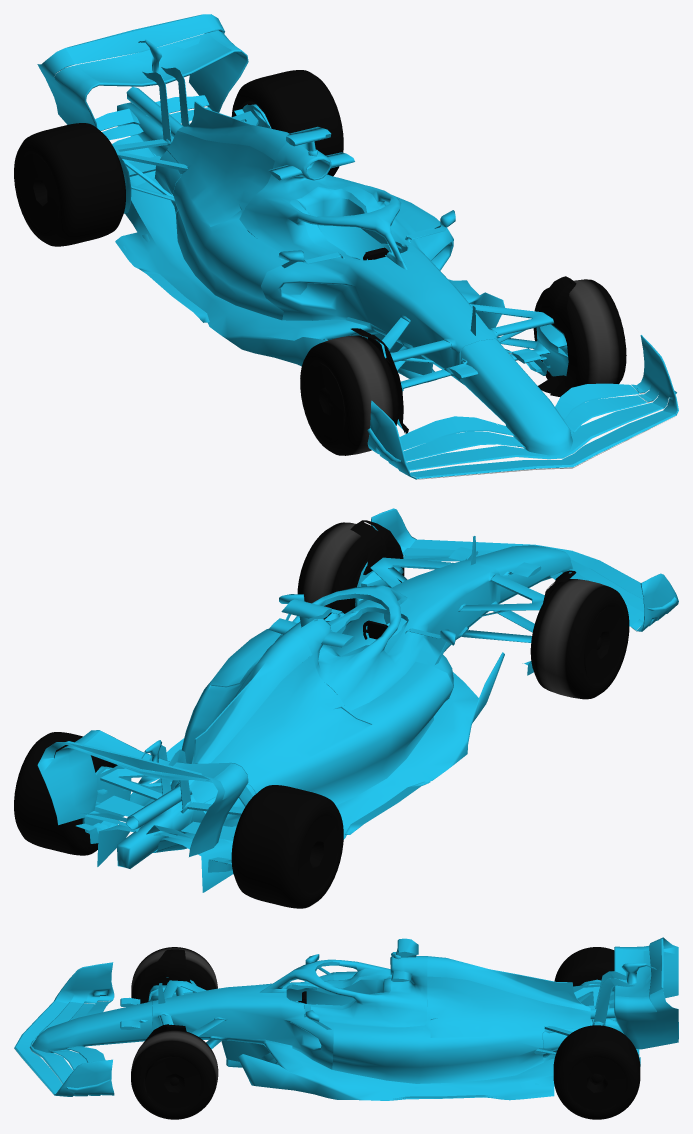
Rendered from f1-car.glb.
3 views of the same model, one above another, from view 1: azimuth 30°, elevation 25°; view 2: azimuth 150°, elevation 25°; view 3: azimuth 270°, elevation 25° (orthographic). The views are drawn at different scales.
Parts seen in each view (by area): view 1: x6_safetycell_shadow, x0_tyre_br, x6_nosecone_shadow, x0_tyre_fr, x6_frontspoiler_fm_shadow.001, x0_tyre_bl, x0_tyre_fl, x6_frontflap_fr_shadow, x6_frontflap_fl_shadow, x6_wheel_fr_shadow, x6_wheel_br_shadow, x6_suspension_fin_fl_shadow (+4 smaller); view 2: x6_safetycell_shadow, x0_tyre_br, x0_tyre_fr, x0_tyre_bl, x0_tyre_fl, x6_frontspoiler_fm_shadow.001, x6_nosecone_shadow, x6_wheel_fr_shadow, x6_wheel_br_shadow, x6_frontwing_fr_01_shadow, x6_suspension_fin_fl_shadow, x6_frontwing_fl_01_shadow; view 3: x6_safetycell_shadow, x0_tyre_bl, x0_tyre_fl, x6_nosecone_shadow, x6_frontspoiler_fm_shadow.001, x6_wheel_bl_shadow, x6_wheel_fl_shadow, x6_frontwing_fr_01_shadow, x0_tyre_br, x6_frontwing_fl_01_shadow, x0_tyre_fr, x6_suspension_fin_fr_shadow (+2 smaller).
Part boxes in pixels (x1,y1,x2,y2): x6_safetycell_shadow: [37, 14, 568, 429]; x0_tyre_br: [14, 123, 125, 246]; x6_nosecone_shadow: [448, 339, 573, 455]; x0_tyre_fr: [300, 335, 398, 455]; x6_frontspoiler_fm_shadow.001: [406, 384, 675, 478]; x0_tyre_bl: [231, 70, 343, 176]; x0_tyre_fl: [533, 279, 626, 388]; x6_frontflap_fr_shadow: [399, 416, 516, 461]; x6_frontflap_fl_shadow: [555, 383, 646, 431]; x6_wheel_fr_shadow: [304, 362, 345, 440]; x6_wheel_br_shadow: [19, 153, 58, 230]; x6_suspension_fin_fl_shadow: [538, 276, 577, 396]; x6_safetycell_shadow: [37, 536, 544, 892]; x0_tyre_br: [231, 785, 343, 908]; x0_tyre_fr: [530, 579, 629, 699]; x0_tyre_bl: [14, 732, 117, 855]; x0_tyre_fl: [297, 522, 393, 619]; x6_frontspoiler_fm_shadow.001: [402, 539, 644, 630]; x6_nosecone_shadow: [448, 545, 573, 603]; x6_wheel_fr_shadow: [584, 606, 624, 683]; x6_wheel_br_shadow: [298, 815, 338, 892]; x6_frontwing_fr_01_shadow: [636, 573, 678, 631]; x6_suspension_fin_fl_shadow: [350, 520, 404, 582]; x6_frontwing_fl_01_shadow: [371, 508, 416, 552]; x6_safetycell_shadow: [148, 937, 678, 1100]; x0_tyre_bl: [553, 1025, 640, 1119]; x0_tyre_fl: [131, 1030, 218, 1119]; x6_nosecone_shadow: [31, 997, 152, 1052]; x6_frontspoiler_fm_shadow.001: [14, 1000, 112, 1094]; x6_wheel_bl_shadow: [568, 1056, 625, 1110]; x6_wheel_fl_shadow: [145, 1056, 201, 1109]; x6_frontwing_fr_01_shadow: [54, 962, 114, 1003]; x0_tyre_br: [554, 947, 614, 986]; x6_frontwing_fl_01_shadow: [54, 1059, 114, 1096]; x0_tyre_fr: [131, 947, 217, 998]; x6_suspension_fin_fr_shadow: [136, 949, 191, 1003].
Size of the model in its own units: 201 by 116 by 548.
